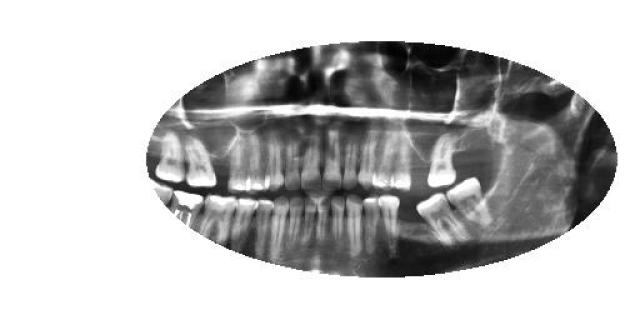Fillings: (235, 198, 259, 252)
Implant: (168, 190, 204, 228)
